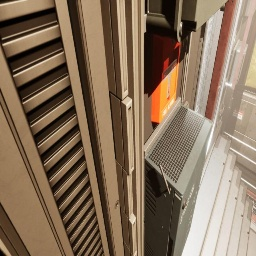FireAlarm ,: (151, 35, 181, 124)
